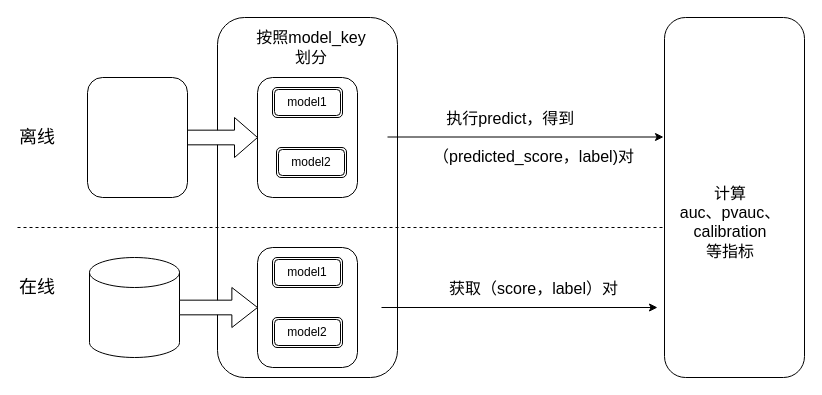
Image size: 822x395. Some labels were removed from this diagram. The box of each missing label's shape, as (x1, y1, x2, y2) in pixels:
tfrecord: (86, 76, 188, 198)
采样表&& dispatch表: (88, 256, 180, 358)
